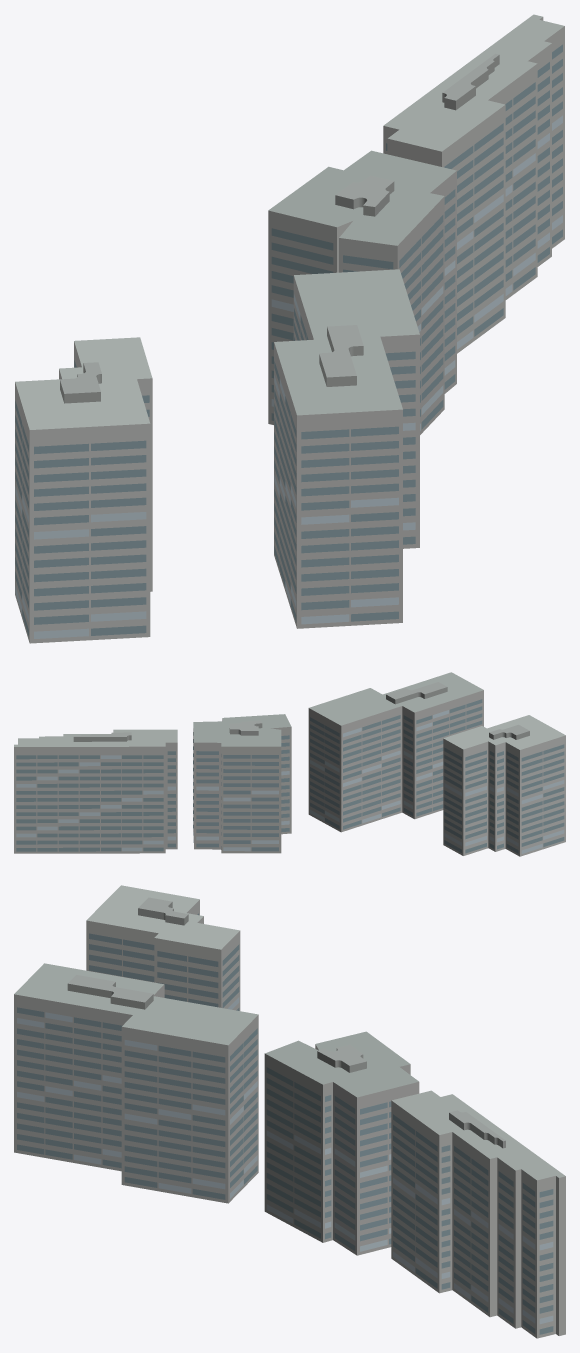
Rendered from apt-a11001203.glb.
3 renders of one model, top to bottom at view 1: azimuth 30°, elevation 25°; view 2: azimuth 150°, elevation 25°; view 3: azimuth 270°, elevation 25°, orthographic. The views are drawn at different scales.
Parts seen in each view (by area): view 1: apt-a11001203; view 2: apt-a11001203; view 3: apt-a11001203.
Boxes of the visible parts, <box> form: apt-a11001203: <box>15,14,564,643</box>; apt-a11001203: <box>14,672,565,856</box>; apt-a11001203: <box>14,885,565,1338</box>.
Bounding box in the file's own units: 183 × 47.81 × 145.
